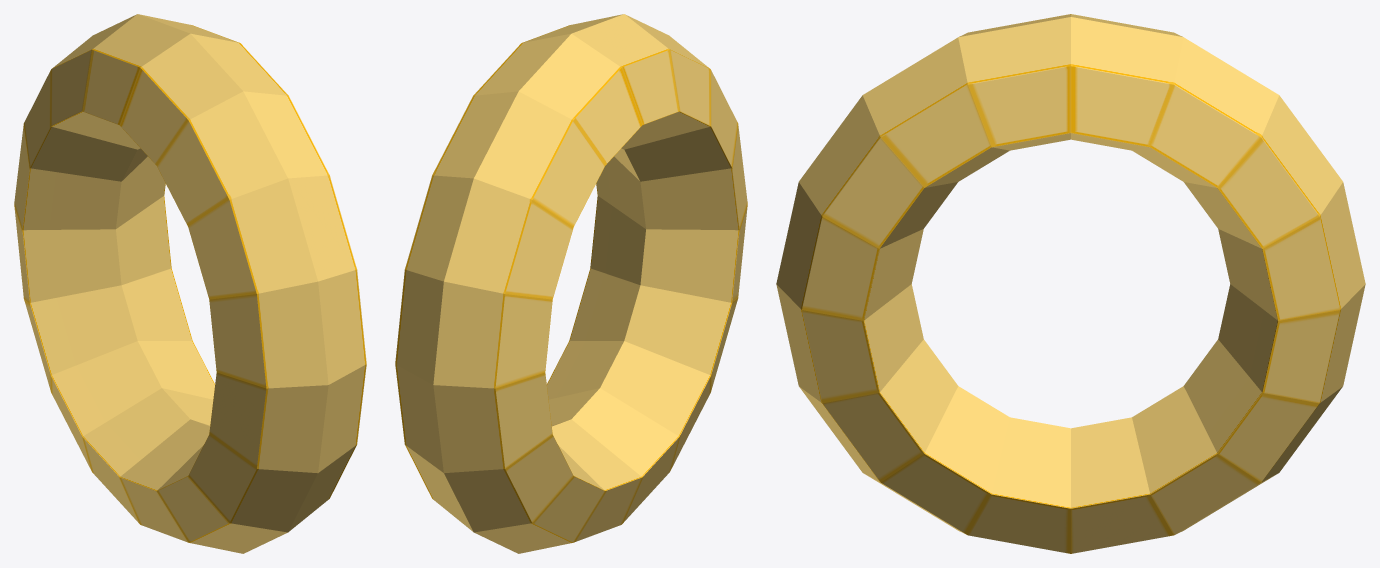
File: coin.fbx
The picture shows the model from 3 angles, left to right: view 1: azimuth 30°, elevation 25°; view 2: azimuth 150°, elevation 25°; view 3: azimuth 270°, elevation 25°; orthographic projection. The views are drawn at different scales.
Visible parts, largest first — view 1: coin; view 2: coin; view 3: coin.
Boxes of the visible parts, x1,y1,x2,y2 form: coin: [14, 14, 366, 553]; coin: [395, 14, 747, 553]; coin: [776, 14, 1365, 553].
Size of the model in its own units: 54 by 182 by 182.
1 material, 1 textured.
